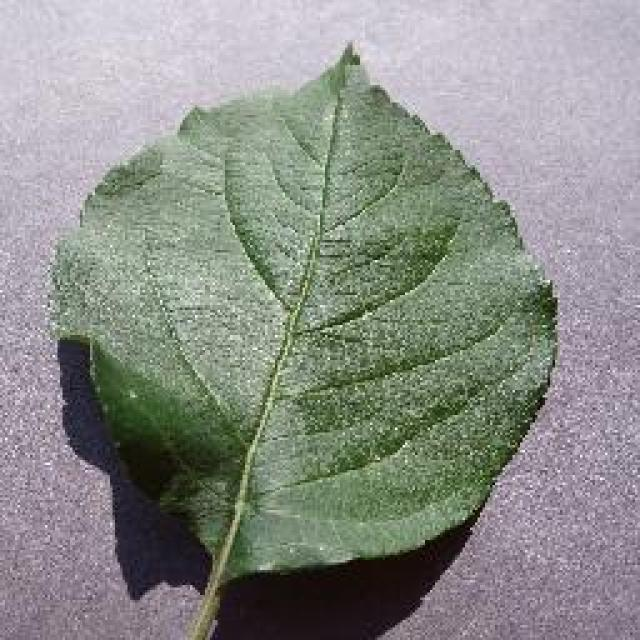apple healthy: (45, 38, 560, 638)
